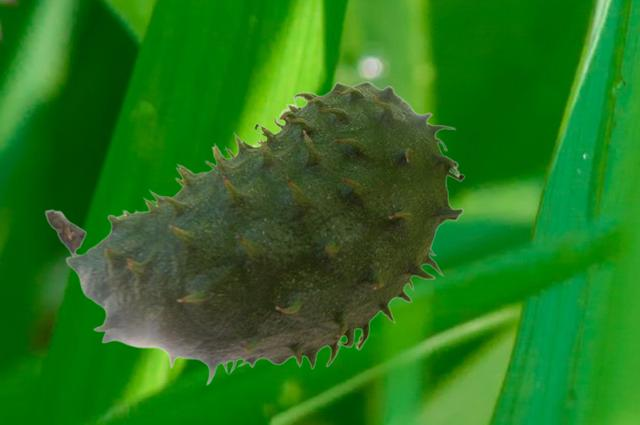guyabano: (44, 81, 464, 385)
